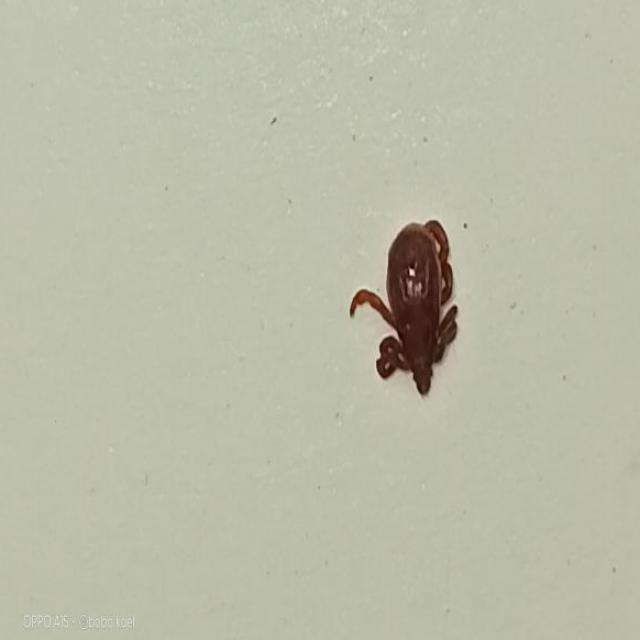Rhipicephalus Sanguineus-M: (349, 221, 460, 400)
